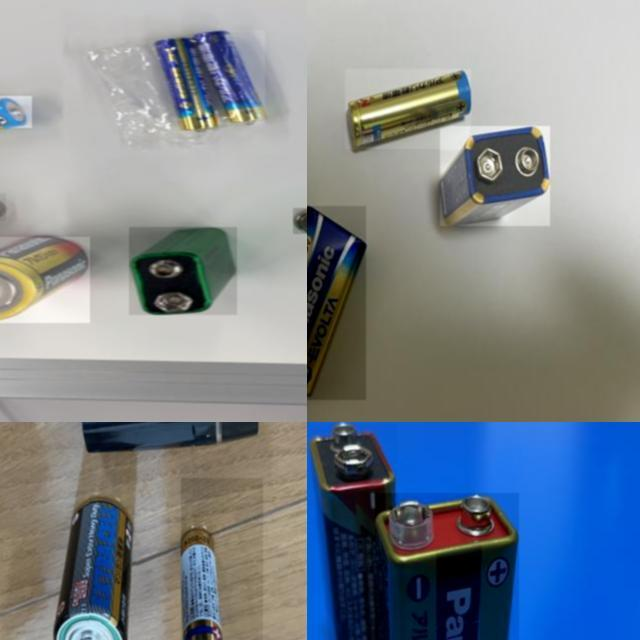9V: (374, 493, 519, 640), (309, 424, 396, 640), (307, 206, 366, 399), (441, 126, 551, 226), (130, 227, 238, 314)
